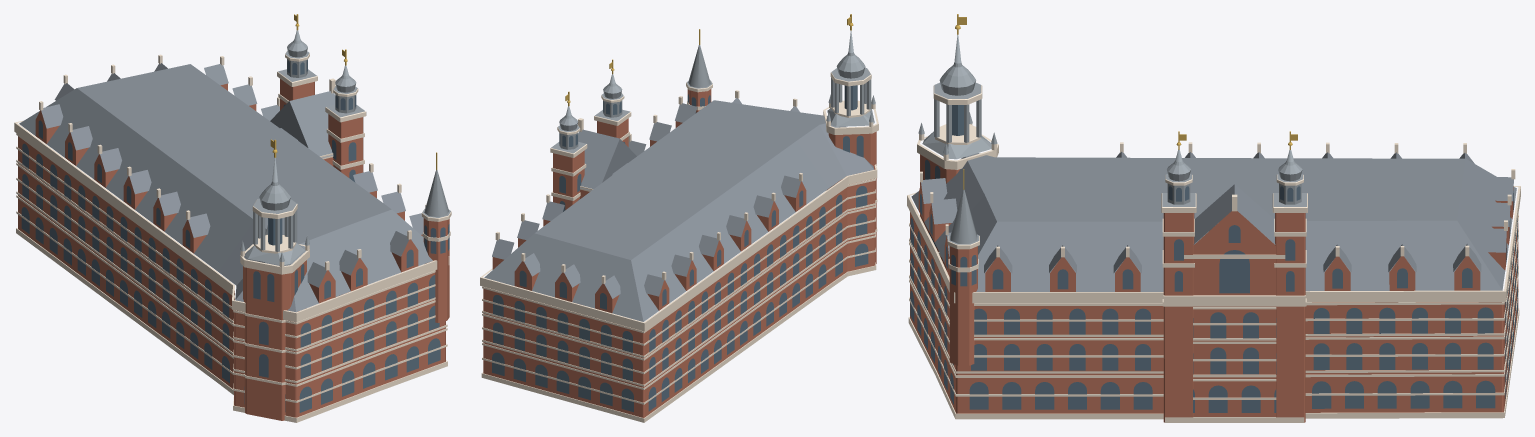
The model's file is amsterdam-magna-plaza.glb.
3 renders of one model, left to right at view 1: azimuth 30°, elevation 25°; view 2: azimuth 150°, elevation 25°; view 3: azimuth 270°, elevation 25°, orthographic. The views are drawn at different scales.
Parts seen in each view (by area): view 1: Magna Plaza; view 2: Magna Plaza; view 3: Magna Plaza.
Part boxes in pixels (x1,y1,x2,y2): Magna Plaza: (14, 14, 451, 422); Magna Plaza: (480, 14, 878, 422); Magna Plaza: (907, 14, 1520, 422).
Bounding box in the file's own units: 37.66 × 44.6 × 80.45.
